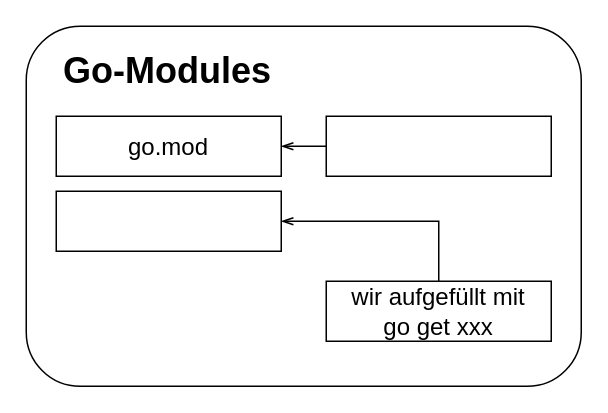
This 608x413 diagram has some shape labels left out. The shapes that lost their labels are listed below. From the top down, each one's centre as x and y in pixels, then its label:
At point (438, 145): "go mod tidy".
At point (168, 220): "go.sum".
